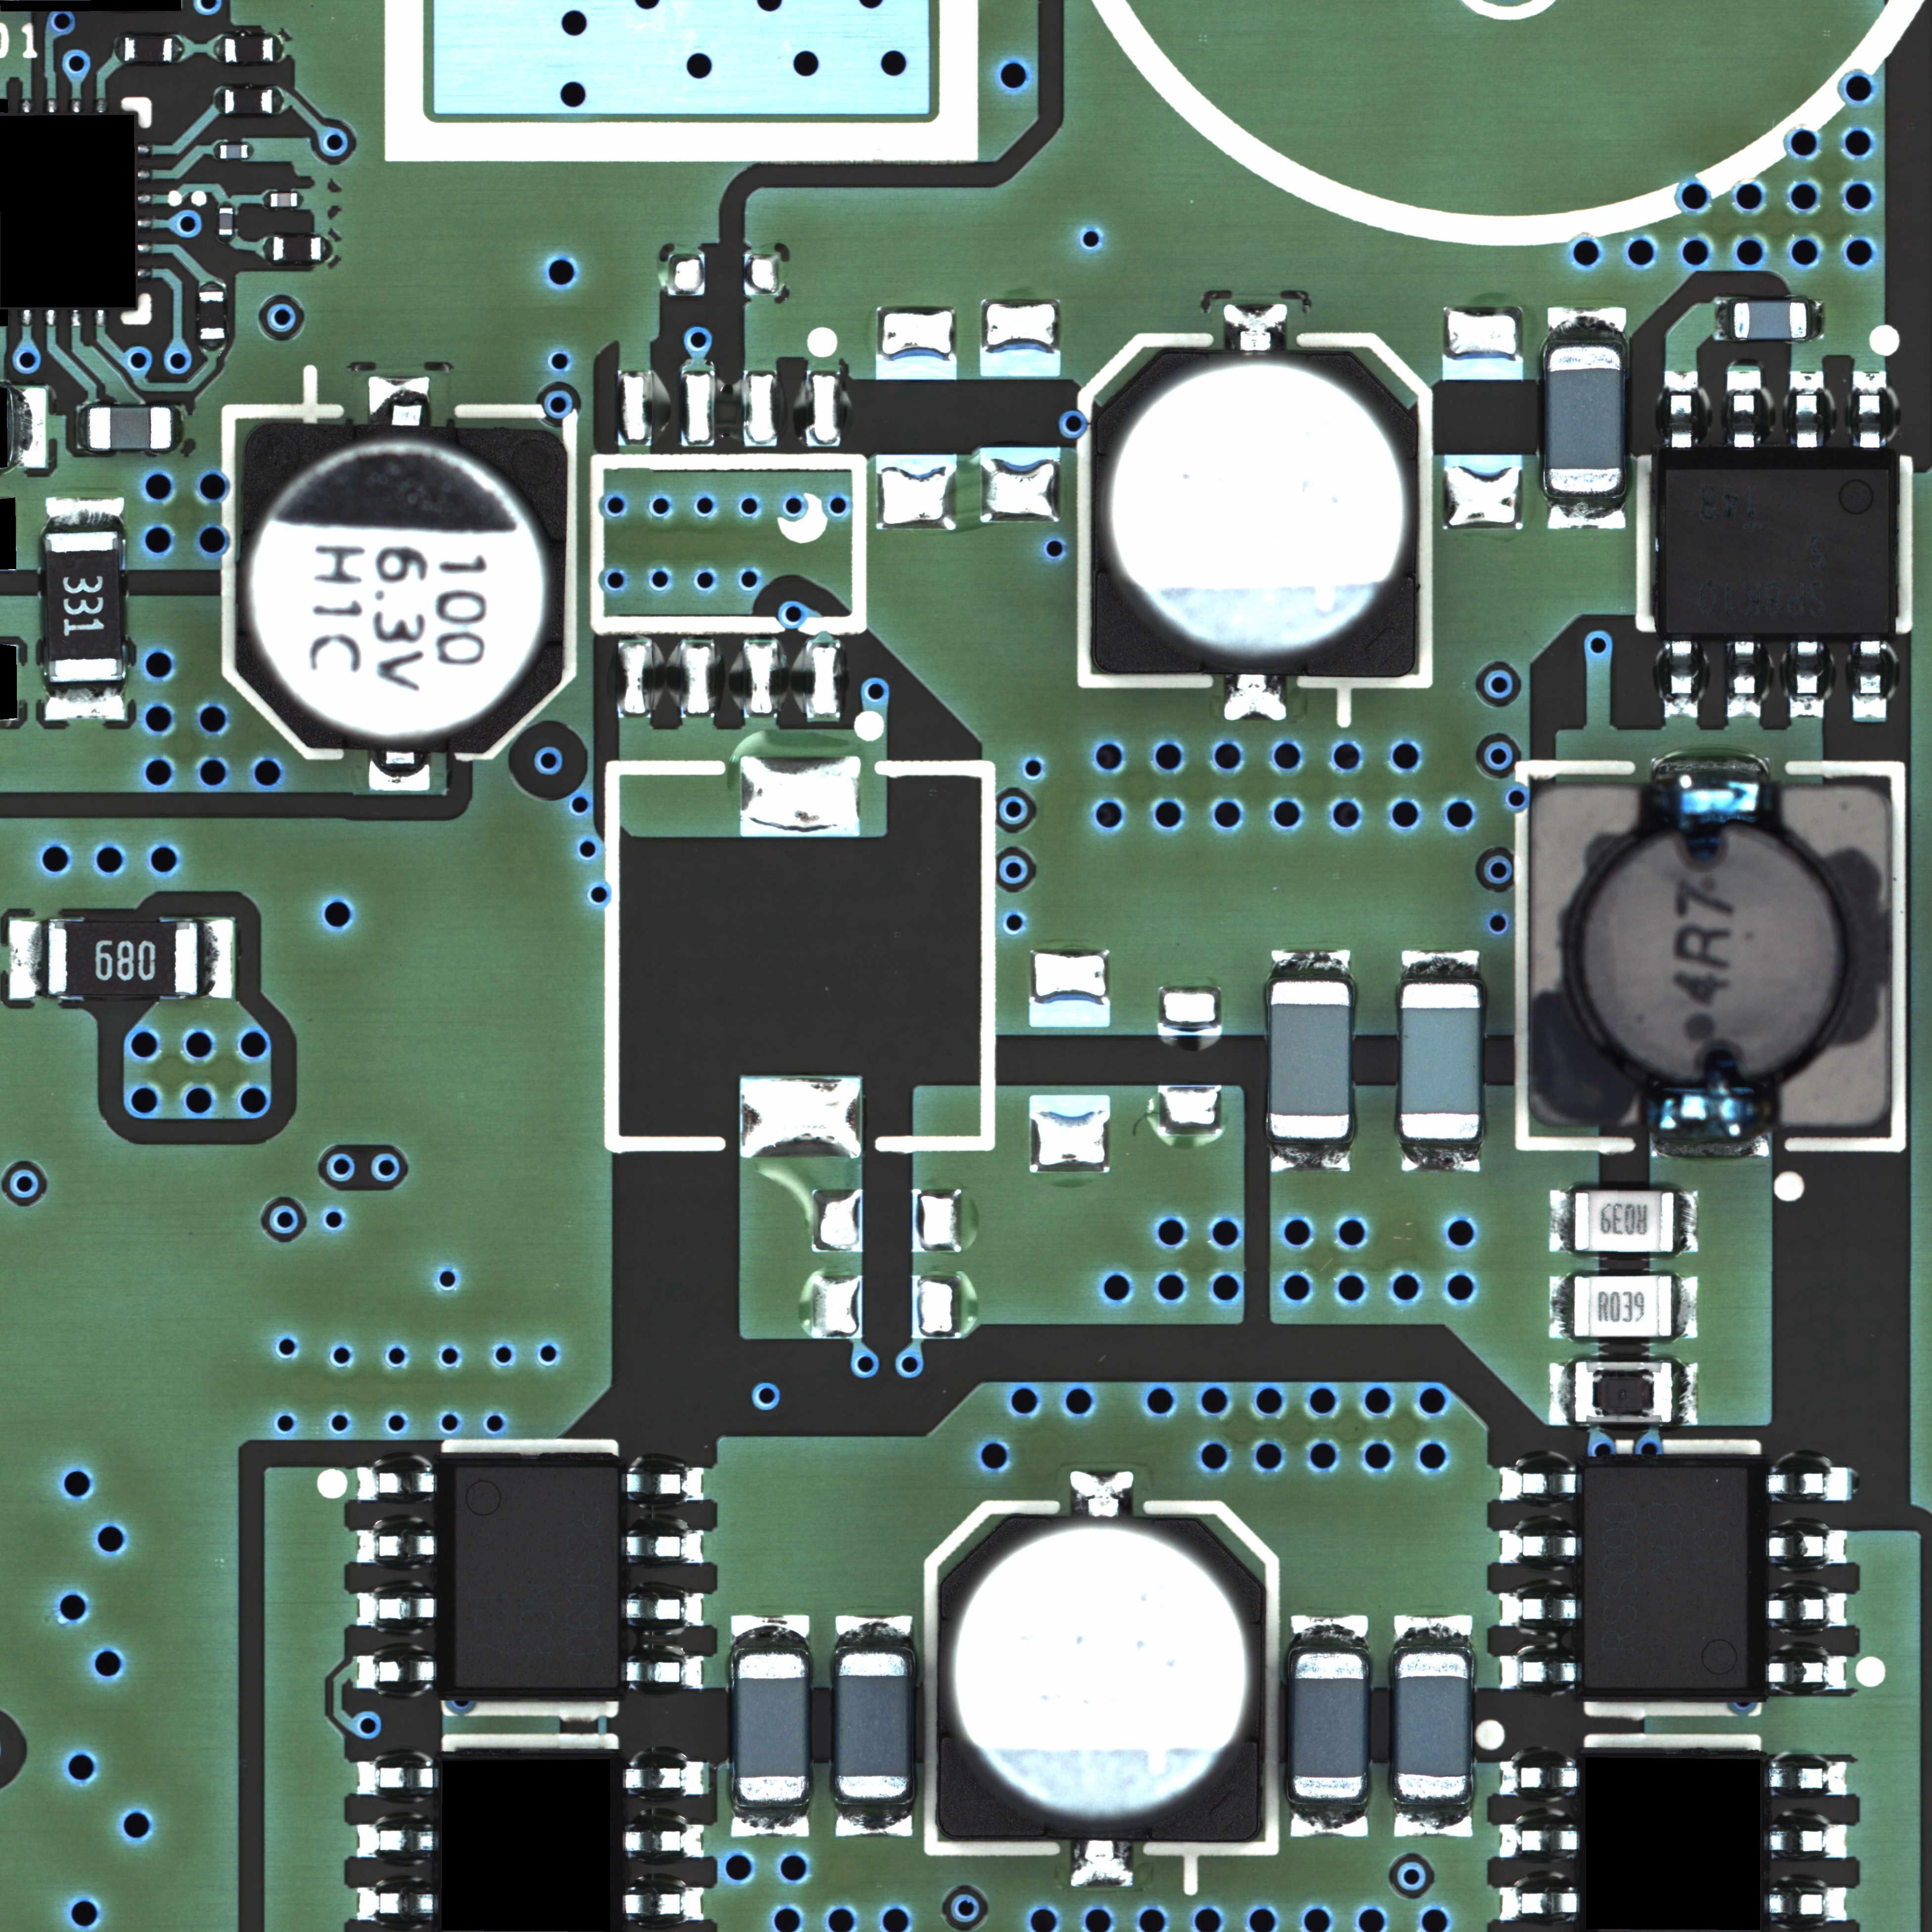Package: (1530, 784, 1891, 1136), (239, 425, 566, 752), (939, 1514, 1265, 1842), (1093, 352, 1417, 676), (437, 1460, 621, 1698), (1656, 449, 1893, 633), (1583, 1465, 1766, 1697), (1270, 980, 1350, 1138), (1399, 982, 1479, 1139), (44, 533, 124, 681), (732, 1649, 809, 1803), (1290, 1652, 1368, 1799), (835, 1652, 911, 1801), (1546, 347, 1622, 494), (1392, 1652, 1468, 1799), (50, 920, 196, 994), (1575, 1276, 1672, 1338), (1575, 1191, 1672, 1253), (1576, 1362, 1670, 1422), (87, 407, 172, 449), (1734, 303, 1806, 338), (198, 292, 225, 340), (124, 37, 172, 62), (225, 88, 272, 113), (274, 237, 322, 262), (225, 39, 272, 62), (218, 209, 234, 235), (221, 145, 248, 159), (271, 193, 297, 207)
Solder: (1652, 755, 1771, 784), (9, 918, 48, 1000), (1224, 303, 1288, 352), (1548, 306, 1628, 345), (1392, 1799, 1472, 1838), (368, 375, 430, 425), (46, 681, 124, 720), (356, 1465, 437, 1502), (356, 1591, 437, 1628), (1288, 1799, 1369, 1836), (1789, 633, 1824, 718), (1852, 633, 1888, 718), (621, 1467, 704, 1502), (621, 1530, 704, 1566), (1499, 1467, 1582, 1502), (1499, 1529, 1582, 1564), (1499, 1654, 1582, 1690), (1766, 1467, 1849, 1502), (1766, 1529, 1849, 1564), (1766, 1592, 1849, 1628), (1070, 1842, 1134, 1888), (1223, 676, 1286, 722), (1394, 1615, 1472, 1652), (356, 1529, 437, 1564), (356, 1654, 437, 1690), (625, 1762, 706, 1798), (1663, 633, 1697, 718), (1727, 633, 1760, 718), (833, 1801, 913, 1836), (731, 1614, 810, 1649), (1546, 494, 1626, 529), (621, 1592, 704, 1626), (621, 1656, 704, 1690), (1499, 1592, 1582, 1626), (1766, 1656, 1849, 1690), (198, 920, 234, 998), (835, 1615, 913, 1651), (1663, 372, 1698, 449), (1789, 372, 1824, 449), (1852, 372, 1888, 449), (1290, 1615, 1368, 1651), (1769, 1759, 1847, 1794), (1500, 1824, 1578, 1859), (625, 1824, 702, 1859), (1070, 1470, 1132, 1514), (729, 1805, 810, 1838), (1500, 1760, 1576, 1796), (357, 1886, 433, 1921), (357, 1822, 433, 1858), (46, 497, 124, 531), (1727, 372, 1760, 449), (1272, 1139, 1350, 1173), (1401, 1139, 1479, 1173), (1769, 1826, 1847, 1859), (625, 1888, 702, 1921), (14, 386, 46, 467), (1651, 1136, 1769, 1157), (1401, 950, 1479, 982), (1272, 948, 1350, 980), (1767, 1890, 1845, 1921), (1500, 1886, 1578, 1918), (357, 1762, 433, 1794), (368, 754, 430, 791), (1672, 1276, 1698, 1338), (1674, 1189, 1698, 1253), (1674, 1362, 1698, 1426), (1550, 1362, 1575, 1424), (1550, 1189, 1573, 1253), (1550, 1276, 1573, 1338), (1714, 299, 1734, 340), (1806, 299, 1824, 340), (172, 407, 184, 451), (76, 405, 87, 449), (172, 37, 186, 62), (198, 340, 225, 352), (212, 37, 225, 62), (322, 235, 333, 262), (113, 37, 124, 62), (274, 88, 285, 113), (214, 88, 225, 113), (262, 235, 272, 260), (274, 35, 283, 62), (19, 310, 34, 326), (138, 216, 152, 232), (138, 166, 152, 182), (42, 99, 58, 113), (18, 99, 34, 113), (198, 281, 223, 290), (69, 310, 81, 327), (94, 310, 106, 327), (138, 267, 152, 281), (138, 242, 152, 257), (138, 191, 152, 205), (138, 143, 152, 157), (94, 99, 108, 113), (44, 310, 57, 326), (69, 99, 83, 111), (218, 235, 234, 244), (262, 193, 271, 207), (248, 143, 255, 159), (212, 143, 219, 159), (297, 193, 304, 207), (219, 202, 234, 207)
